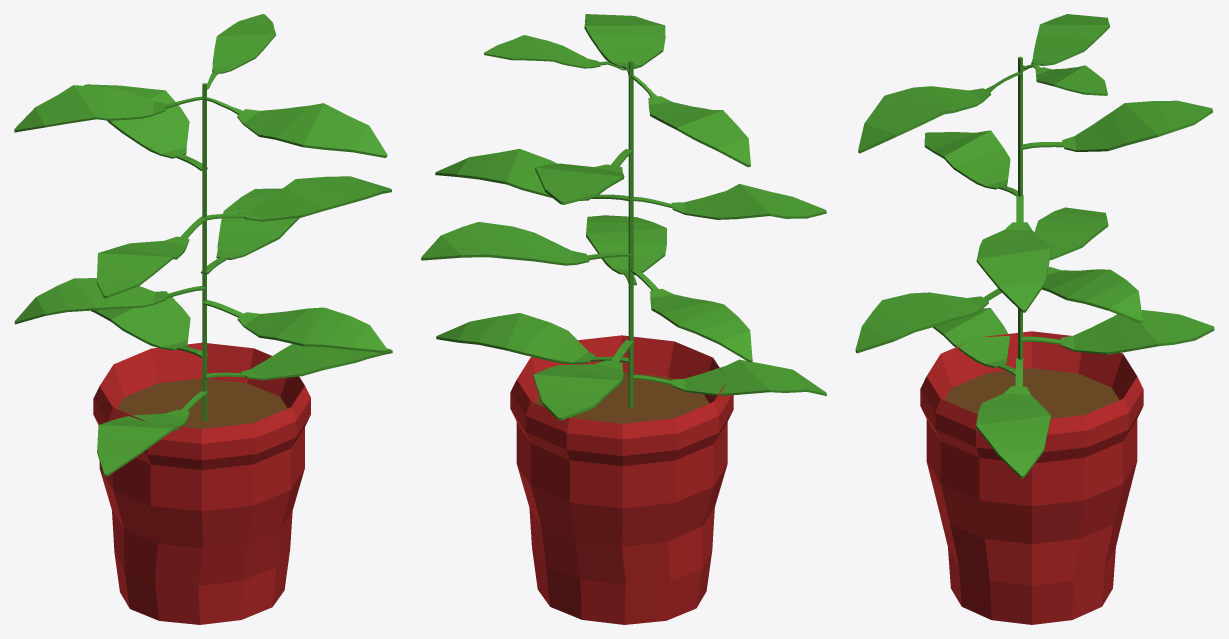
3 views of the same model, side by side, from view 1: azimuth 30°, elevation 25°; view 2: azimuth 150°, elevation 25°; view 3: azimuth 270°, elevation 25° (orthographic). The views are drawn at different scales.
Parts seen in each view (by area): view 1: lowpoly.taobao.com.118; view 2: lowpoly.taobao.com.118; view 3: lowpoly.taobao.com.118.
Part boxes in pixels (x1,y1,x2,y2): lowpoly.taobao.com.118: [14, 14, 392, 624]; lowpoly.taobao.com.118: [421, 14, 826, 624]; lowpoly.taobao.com.118: [855, 14, 1214, 624].
Size of the model in its own units: 4.19 by 6.18 by 3.68.
